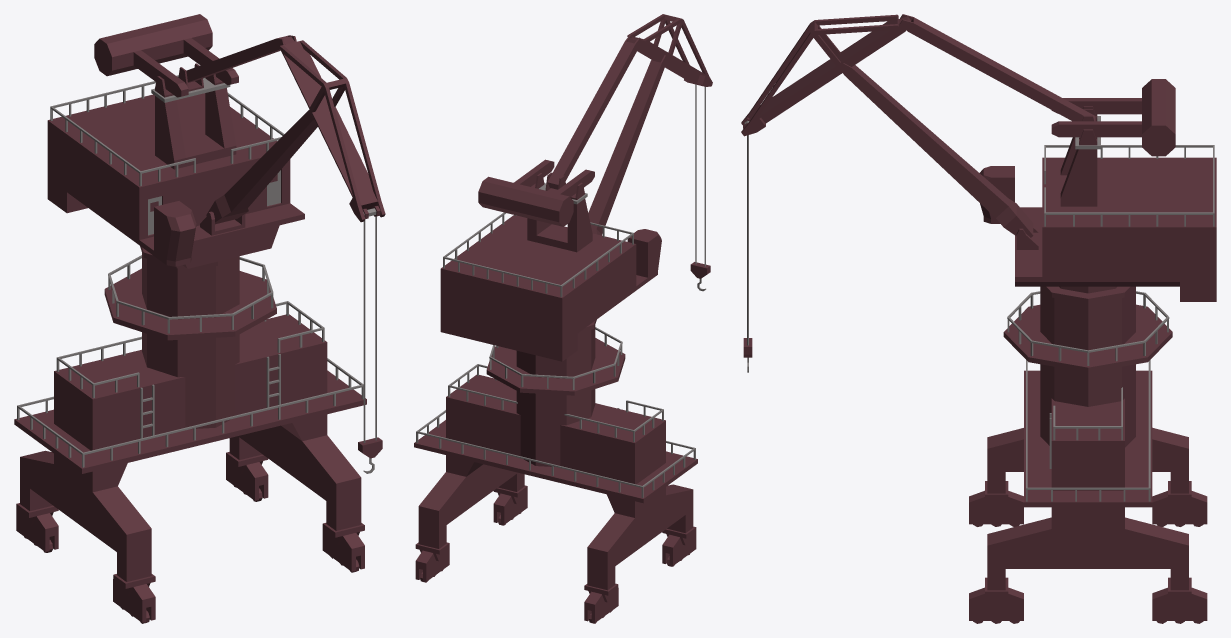
File: crane-docks.fbx
The picture shows the model from 3 angles, left to right: view 1: azimuth 30°, elevation 25°; view 2: azimuth 150°, elevation 25°; view 3: azimuth 270°, elevation 25°; orthographic projection. The views are drawn at different scales.
Parts seen in each view (by area): view 1: crane-docks-base, crane-docks-top, crane-docks-arm-tip, crane-docks-arm-main, crane-docks-hook, crane-docks-arm-back; view 2: crane-docks-base, crane-docks-top, crane-docks-arm-main, crane-docks-arm-back, crane-docks-arm-tip, crane-docks-hook; view 3: crane-docks-base, crane-docks-top, crane-docks-arm-tip, crane-docks-arm-main, crane-docks-arm-back.
Boxes of the visible parts, bbox=[...] form: crane-docks-base: bbox=[14, 246, 366, 623]; crane-docks-top: bbox=[47, 14, 304, 268]; crane-docks-arm-tip: bbox=[279, 36, 385, 222]; crane-docks-arm-main: bbox=[206, 109, 317, 224]; crane-docks-hook: bbox=[358, 216, 382, 473]; crane-docks-arm-back: bbox=[186, 35, 296, 82]; crane-docks-base: bbox=[414, 319, 697, 623]; crane-docks-top: bbox=[440, 159, 661, 361]; crane-docks-arm-main: bbox=[588, 55, 667, 235]; crane-docks-arm-back: bbox=[547, 35, 641, 189]; crane-docks-arm-tip: bbox=[627, 14, 712, 86]; crane-docks-hook: bbox=[690, 84, 710, 291]; crane-docks-base: bbox=[969, 286, 1207, 623]; crane-docks-top: bbox=[980, 79, 1216, 301]; crane-docks-arm-tip: bbox=[741, 14, 910, 136]; crane-docks-arm-main: bbox=[838, 63, 1033, 237]; crane-docks-arm-back: bbox=[900, 14, 1095, 121].
Size of the model in its own units: 17 by 33.56 by 25.92.
